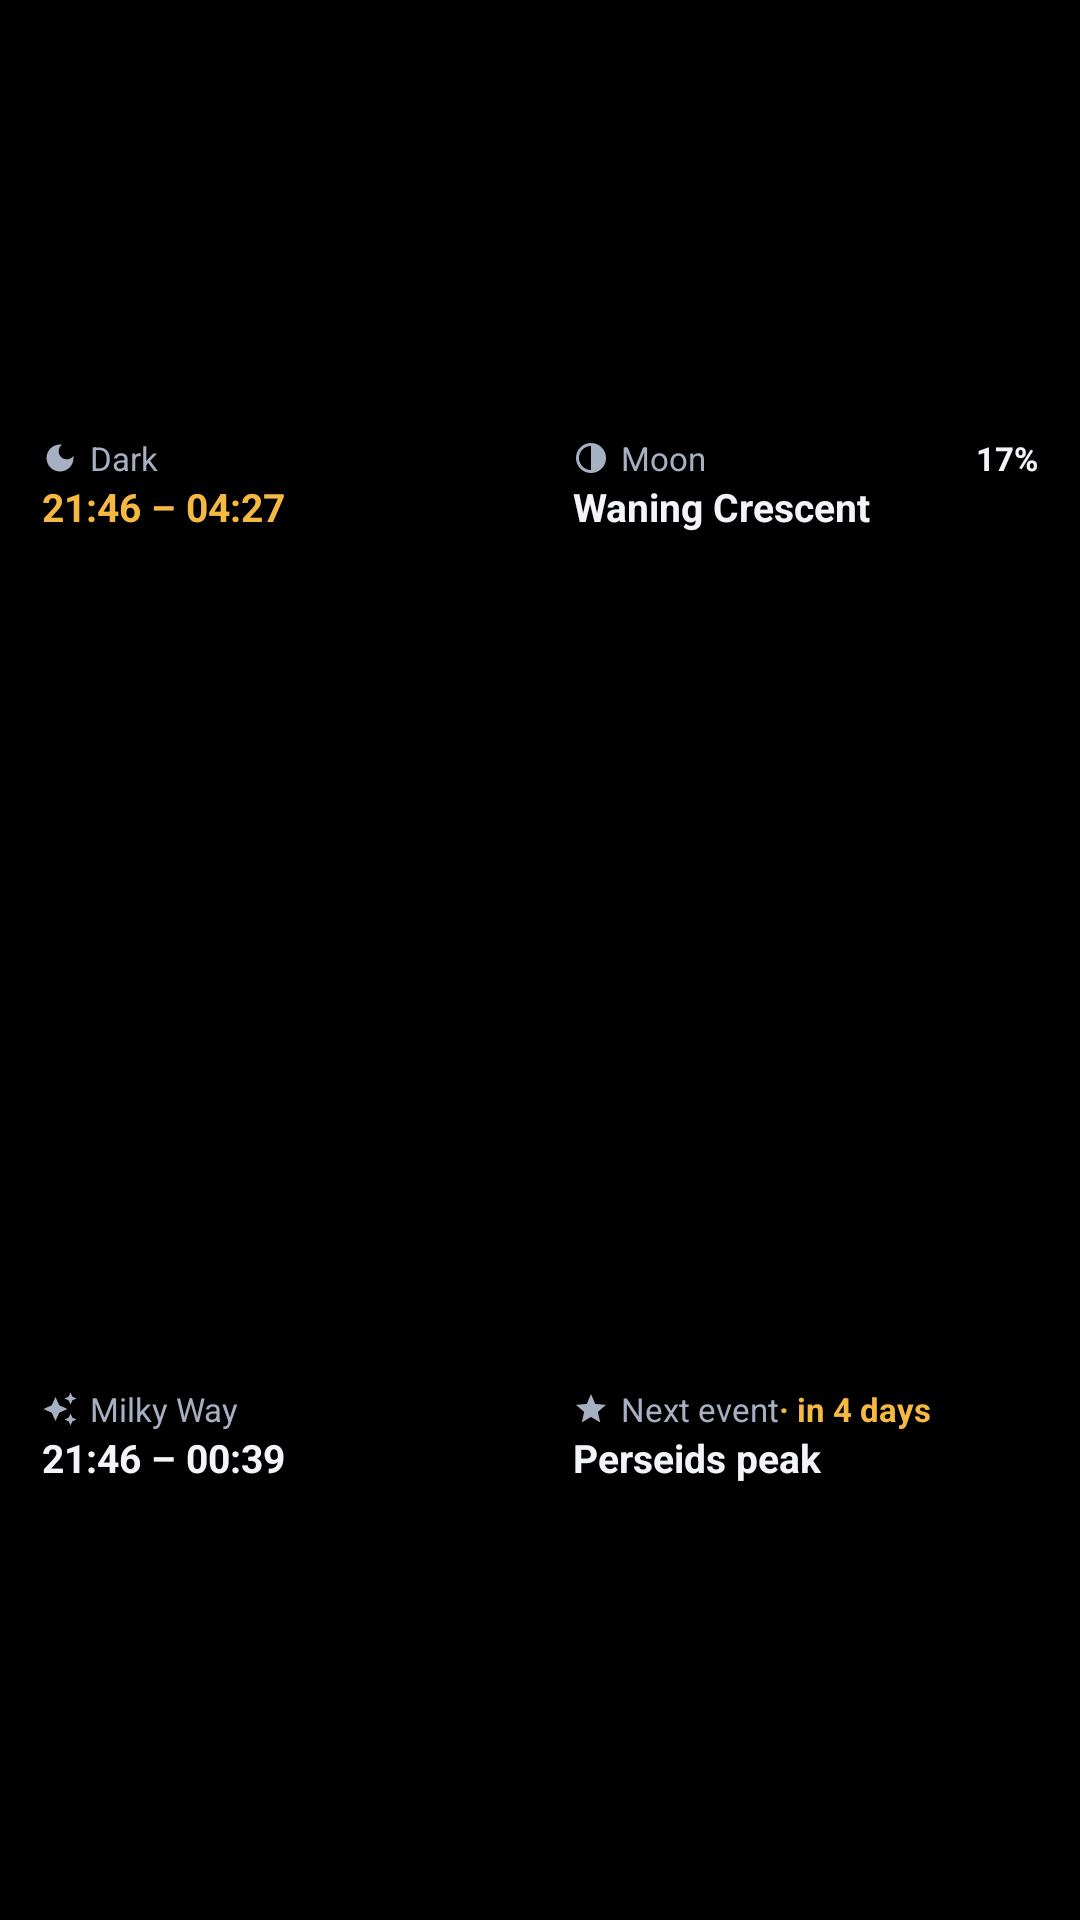

Named icons in this screenshot (1080px×1920px) and their centers, (x,y):
widget event: (591,1408)
